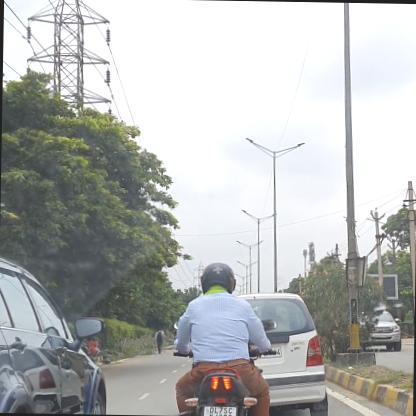car: (0, 244, 112, 415), (234, 291, 332, 415), (357, 309, 404, 353)
motorcycle: (173, 263, 279, 415)
